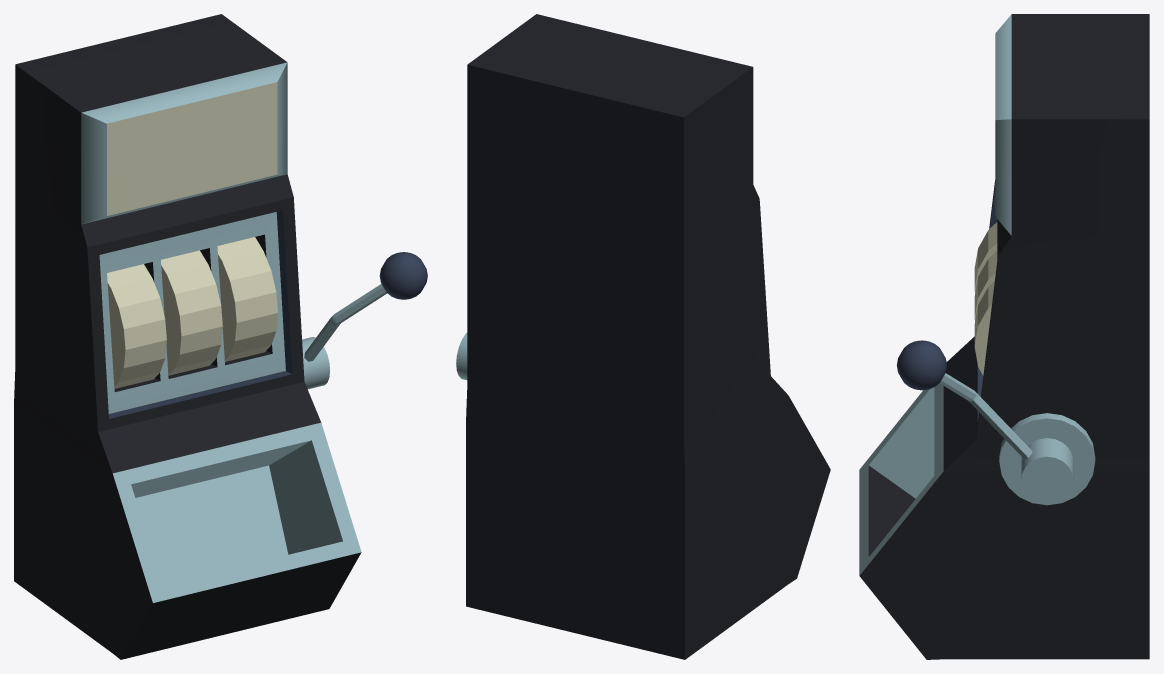
The model's file is slotMachine.fbx.
3 views of the same model, side by side, from view 1: azimuth 30°, elevation 25°; view 2: azimuth 150°, elevation 25°; view 3: azimuth 270°, elevation 25° (orthographic). The views are drawn at different scales.
Parts seen in each view (by area): view 1: machine, slot2, slot3, slot1, handleBall, handlePole, handleJoint; view 2: machine; view 3: machine, handleJoint, handleBall, handlePole, slot3, slot1, slot2.
Boxes of the visible parts, x1=… form: machine: x1=14, y1=14, x2=361, y2=659; slot2: x1=161, y1=250, x2=222, y2=375; slot3: x1=217, y1=237, x2=277, y2=361; slot1: x1=107, y1=264, x2=166, y2=388; handleBall: x1=379, y1=252, x2=427, y2=299; handlePole: x1=304, y1=284, x2=387, y2=361; handleJoint: x1=302, y1=337, x2=329, y2=389; machine: x1=466, y1=14, x2=830, y2=659; machine: x1=859, y1=14, x2=1149, y2=659; handleJoint: x1=999, y1=413, x2=1095, y2=505; handleBall: x1=896, y1=340, x2=946, y2=390; handlePole: x1=940, y1=373, x2=1032, y2=459; slot3: x1=974, y1=281, x2=994, y2=375; slot1: x1=974, y1=222, x2=997, y2=292; slot2: x1=974, y1=251, x2=997, y2=321.
Bounding box in the file's own units: 8.77 × 14.37 × 6.99.
